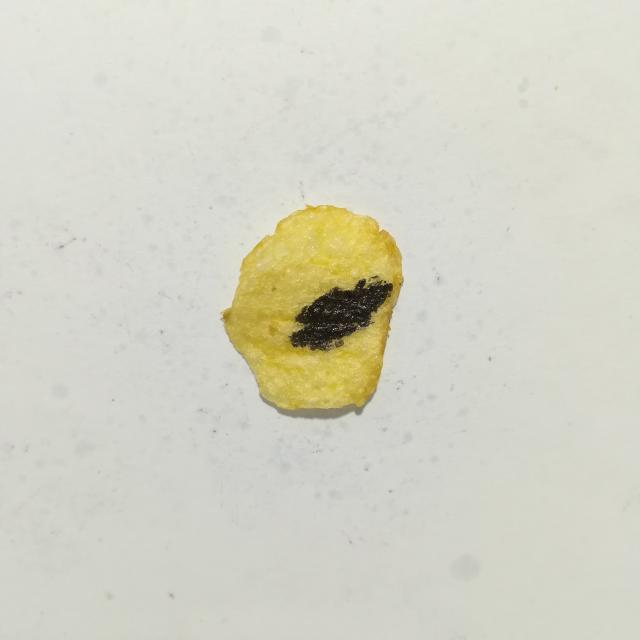chip: (222, 206, 403, 409)
damaged: (288, 279, 393, 352), (367, 275, 380, 282), (334, 339, 344, 348)
